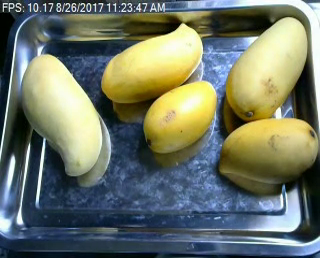Mango: (20, 55, 103, 177), (224, 17, 307, 121), (100, 22, 204, 105), (217, 117, 318, 185), (143, 80, 215, 152)
